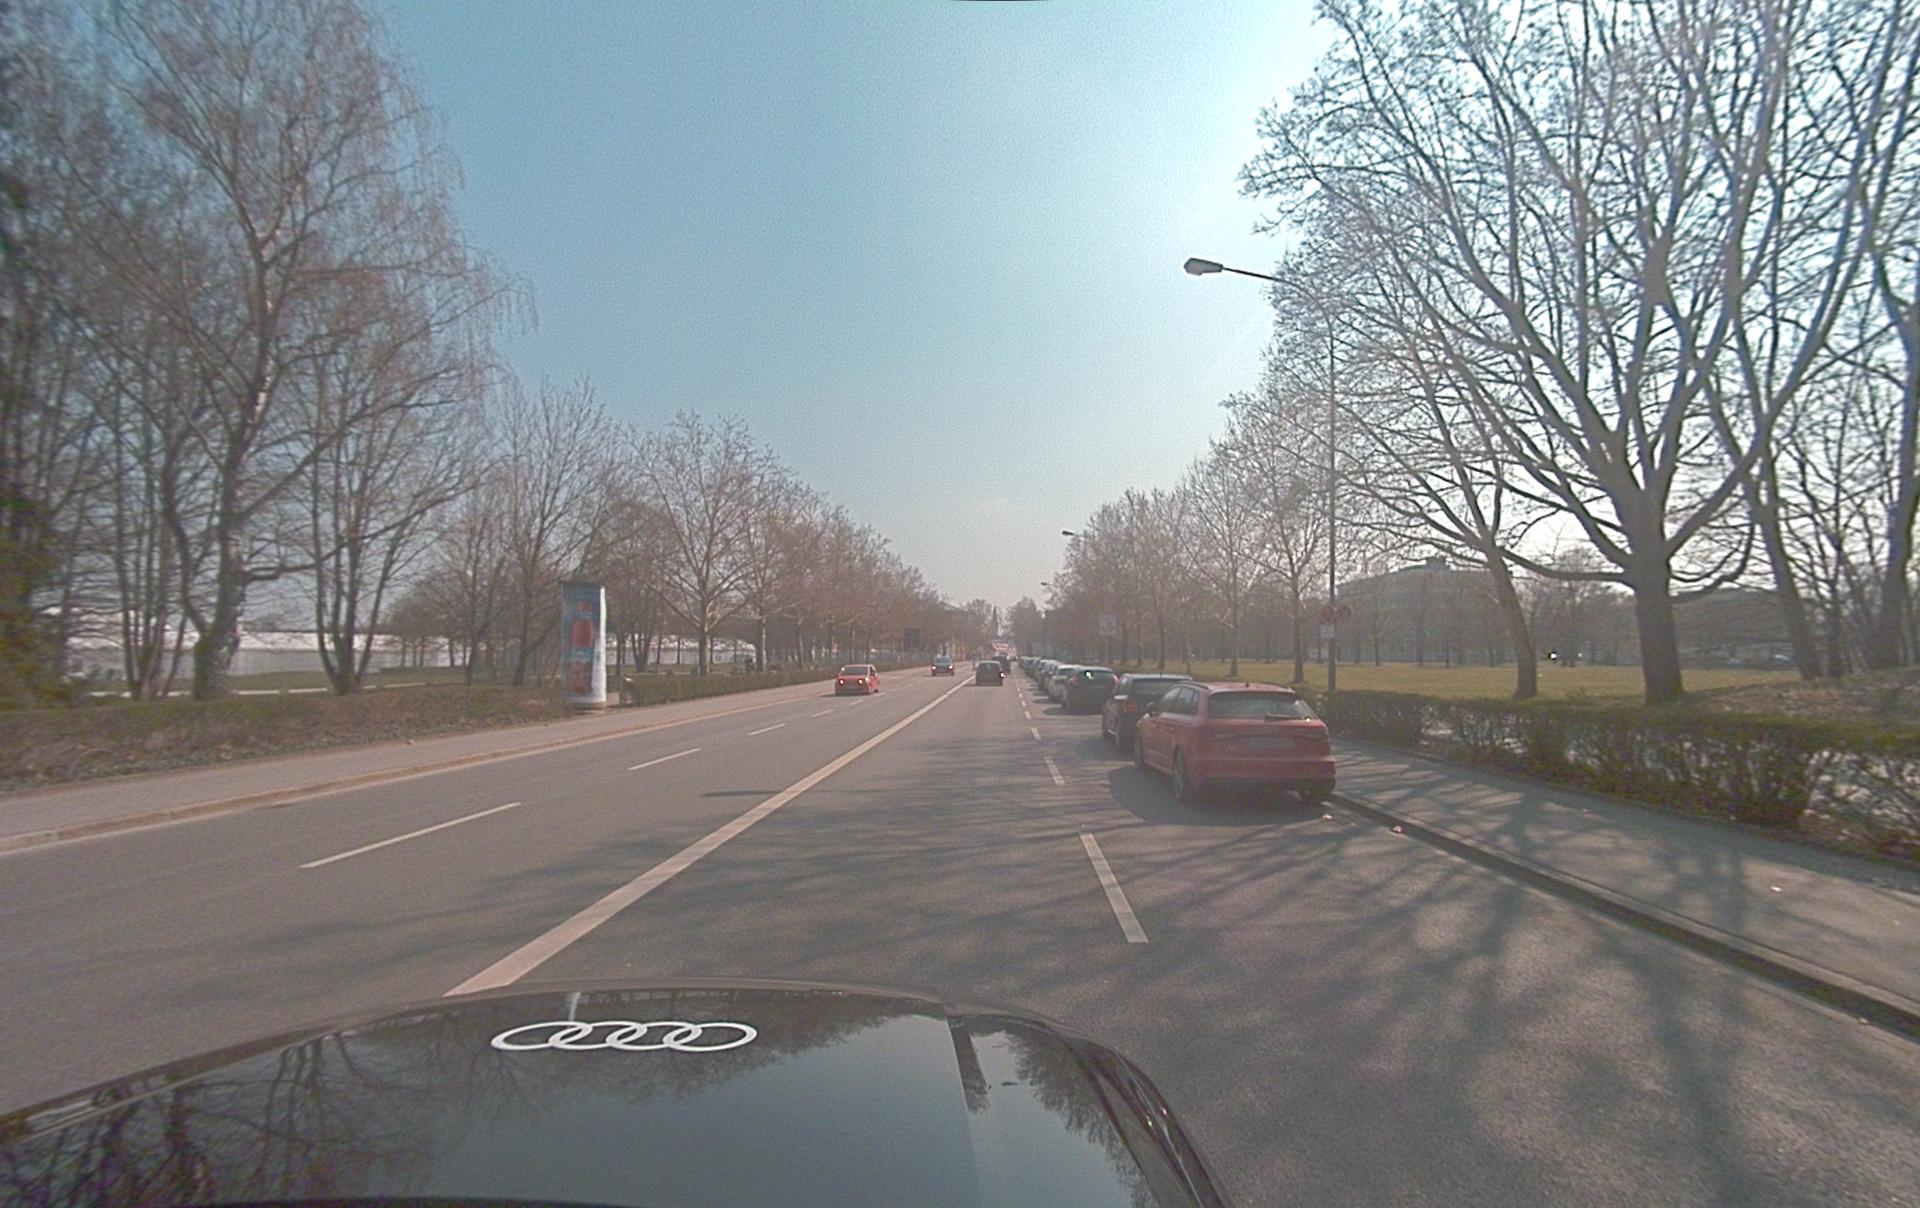car: (1134, 681, 1337, 806), (1102, 674, 1195, 753), (1063, 667, 1117, 714), (835, 664, 881, 696), (1049, 665, 1081, 703), (1035, 660, 1063, 692), (975, 661, 1003, 686), (932, 654, 954, 675)
